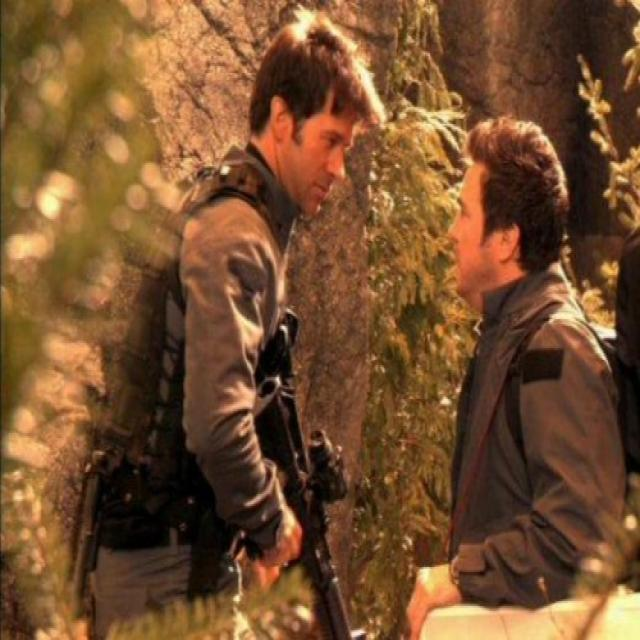rifle: (252, 372, 363, 640)
